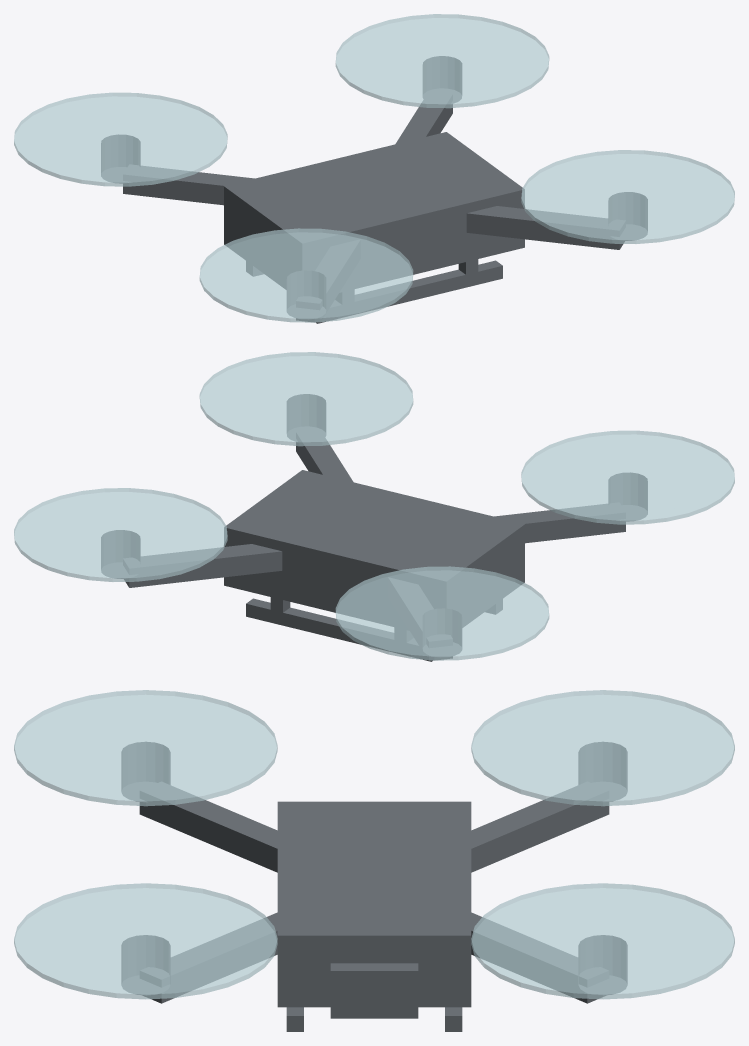
Rendered from multirotor.glb.
3 renders of one model, top to bottom at view 1: azimuth 30°, elevation 25°; view 2: azimuth 150°, elevation 25°; view 3: azimuth 270°, elevation 25°, orthographic. The views are drawn at different scales.
Parts seen in each view (by area): view 1: drone; view 2: drone; view 3: drone.
Boxes of the visible parts, left/top/right/bottom form: drone: left=14, top=14, right=734, bottom=323; drone: left=14, top=352, right=734, bottom=661; drone: left=14, top=690, right=734, bottom=1031.
Size of the model in its own units: 0.82 by 0.168 by 0.82.
